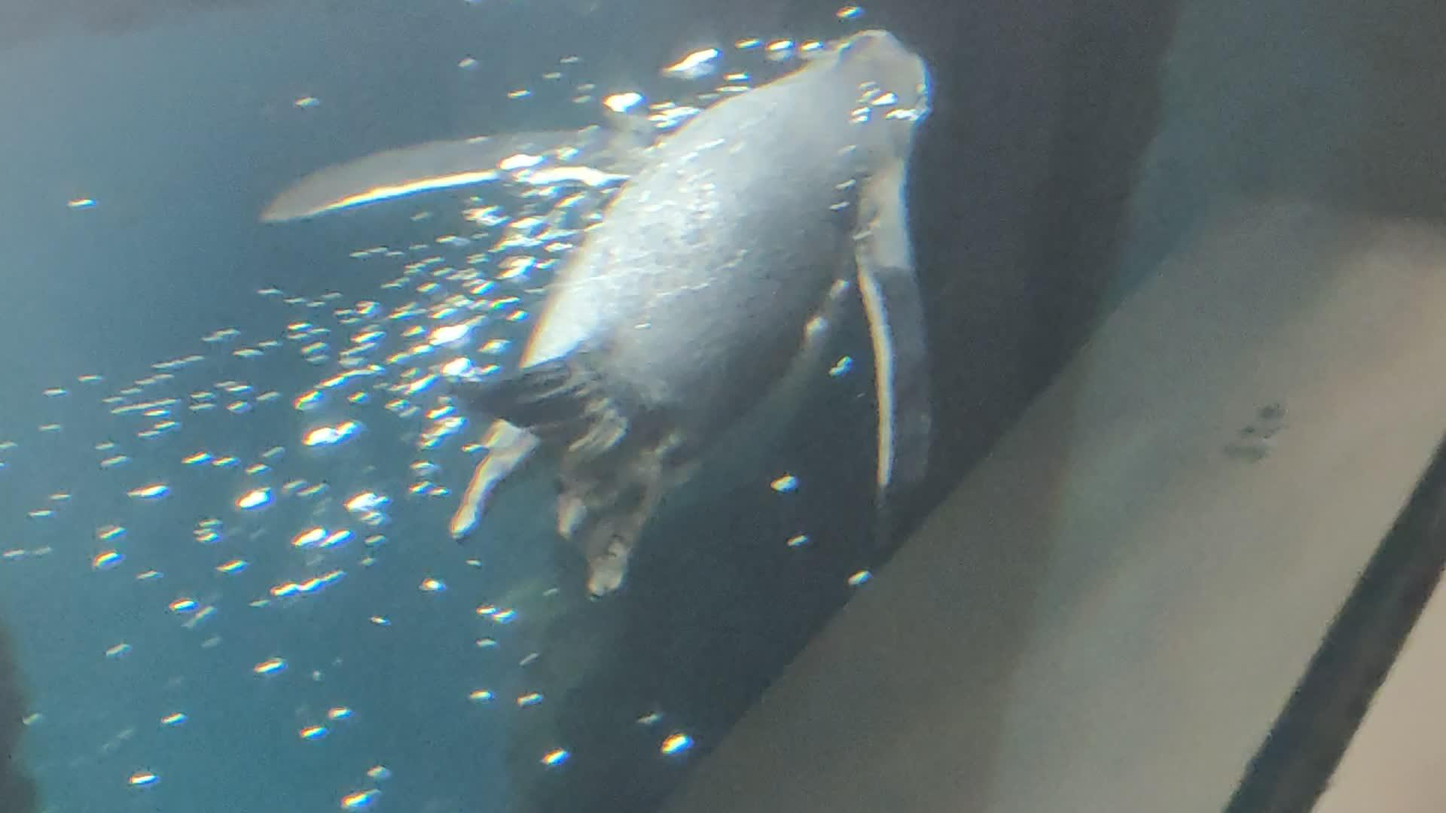apple: (261, 28, 935, 603)
